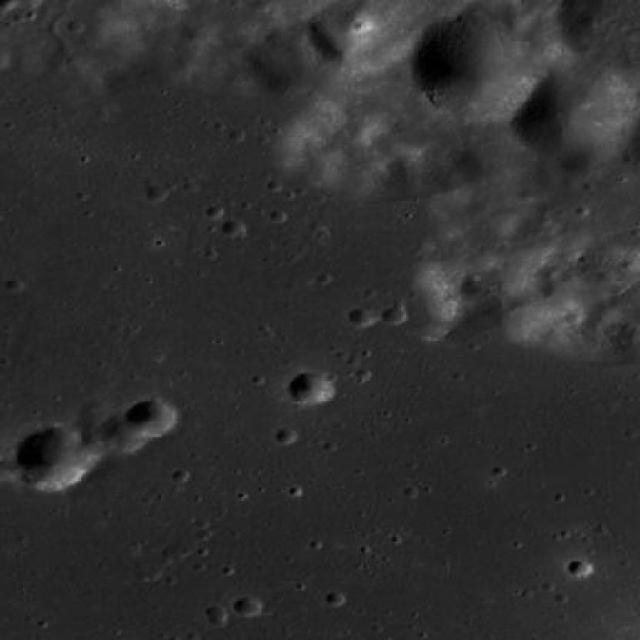crater: (409, 14, 546, 118), (508, 61, 638, 160), (12, 426, 96, 488), (124, 398, 178, 437), (562, 144, 610, 181), (101, 416, 150, 452), (314, 31, 362, 67), (78, 418, 126, 454), (288, 372, 334, 406), (79, 398, 110, 422), (538, 280, 570, 302), (234, 595, 262, 617), (382, 306, 408, 326), (348, 308, 374, 328), (504, 11, 530, 31), (567, 560, 593, 578), (220, 219, 243, 238), (0, 461, 20, 481), (274, 427, 296, 444), (0, 0, 18, 11)
